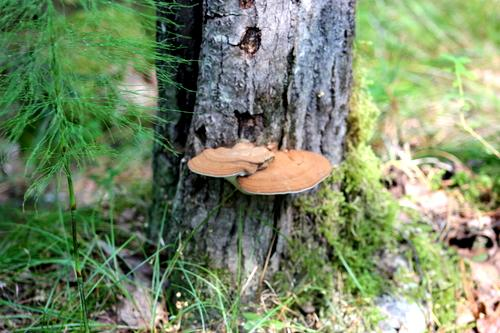Ganoderma - Fruit Body: (185, 144, 334, 196)
